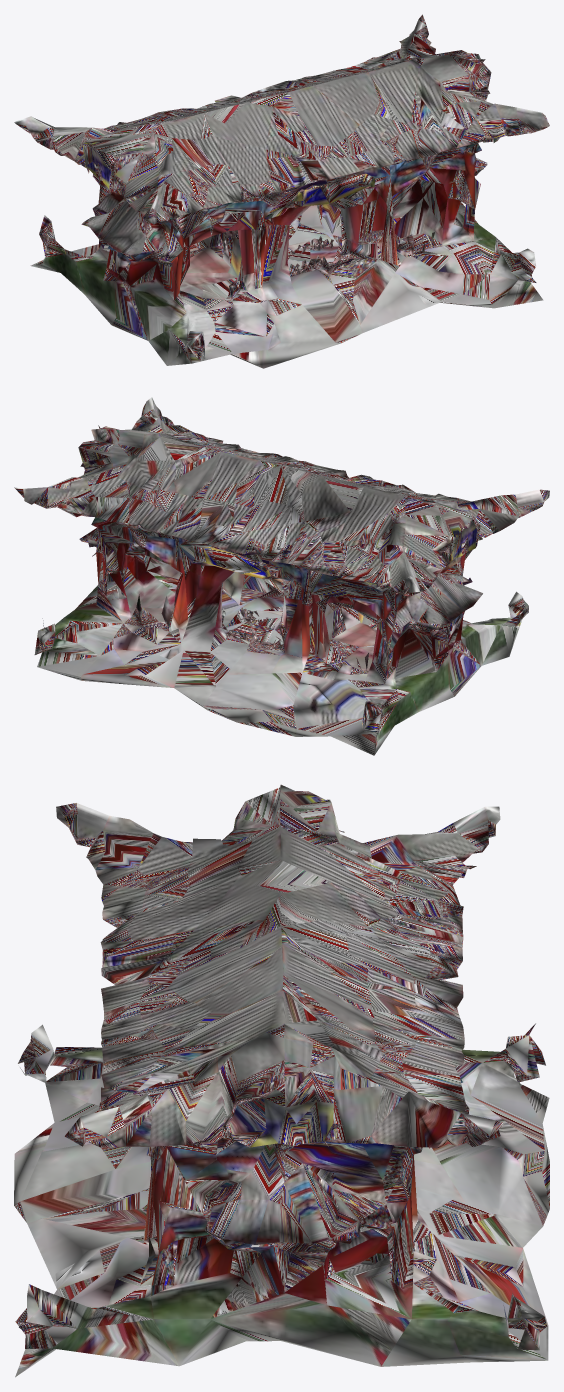
File: lib_paifang.far.glb
3 renders of one model, top to bottom at view 1: azimuth 30°, elevation 25°; view 2: azimuth 150°, elevation 25°; view 3: azimuth 270°, elevation 25°, orthographic. The views are drawn at different scales.
Bounding box in the file's own units: 1.8 × 0.8072 × 1.24.
Materials: 1 (1 with a texture image).
